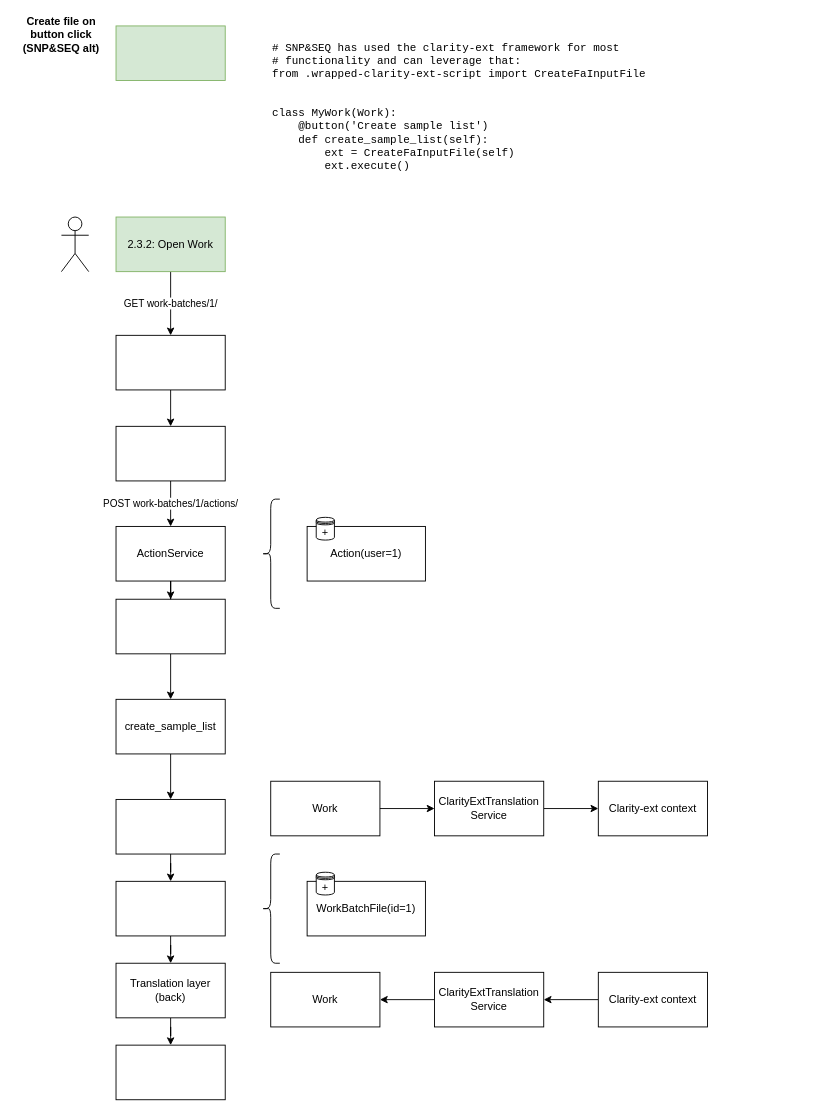
Some shapes in this 832 by 1116 pixel diagram are drawn without their labels. The shapes that lost their labels are listed below. From the top down, each one's box as (x1, y1, x2, y2) in pixels, then its label:
(115, 25, 225, 81): 1.1.3: Configure button
(61, 216, 89, 272): RE
(115, 334, 225, 390): Show button "Create sample list"
(115, 425, 225, 481): User clicks the button
(115, 598, 225, 654): pre execute
(115, 799, 225, 854): Translation layer (clims/clarity-ext)
(115, 880, 225, 936): Execute clarity-ext which "thinks" it's still talking to Clarity
(115, 1044, 225, 1100): post execute (commit, batch process if applicable and error handling)
